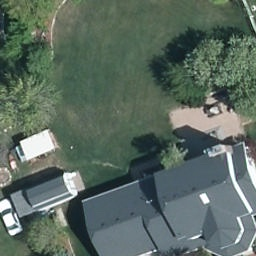car: (0, 197, 23, 237)
